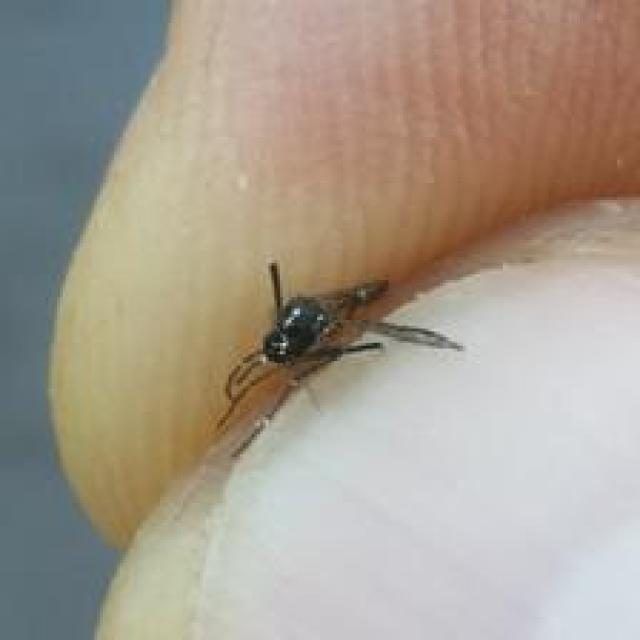Aedes albopictus: (211, 258, 466, 458)
